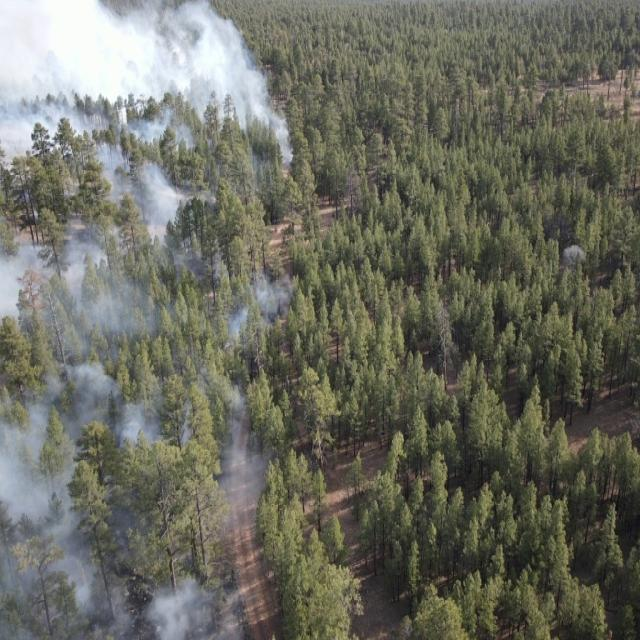smoke: (0, 241, 298, 640), (0, 0, 291, 156), (54, 156, 215, 238)
